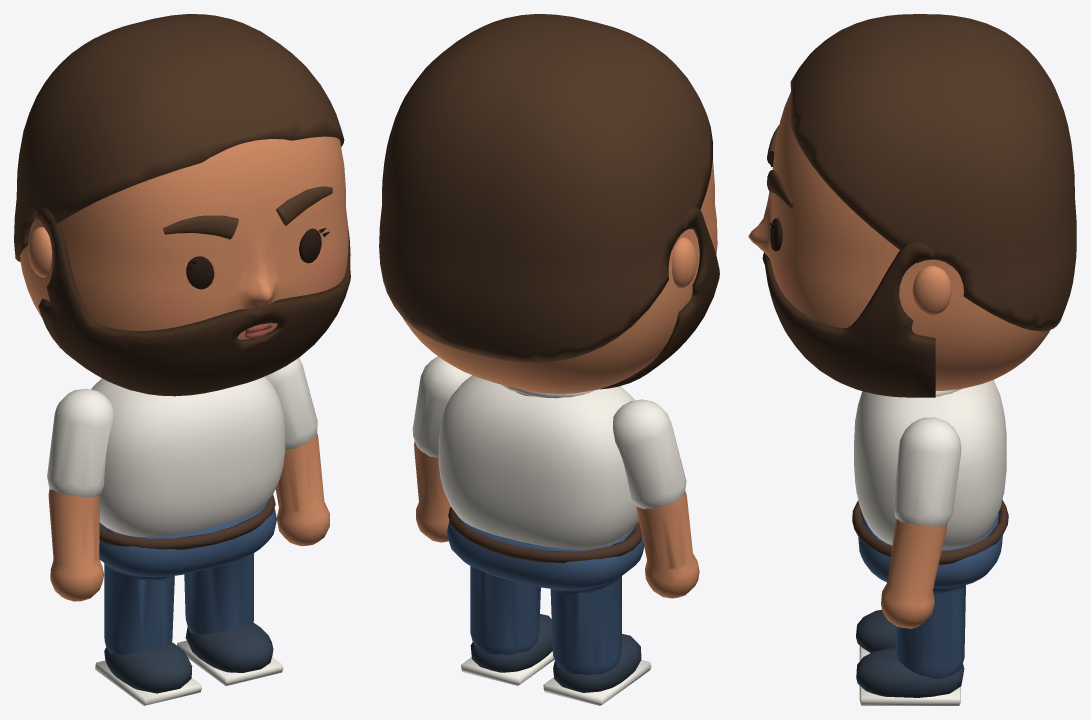
Rendered from robert.glb.
The picture shows the model from 3 angles, left to right: view 1: azimuth 30°, elevation 25°; view 2: azimuth 150°, elevation 25°; view 3: azimuth 270°, elevation 25°; orthographic projection.
Visible parts, largest first — view 1: head, body, arm_r, arm_l, eye_r, eye_l; view 2: head, body, arm_r, arm_l; view 3: head, body, arm_l.
Boxes of the visible parts, x1,y1,x2,y2 form: head: (14, 14, 350, 396); body: (91, 376, 285, 705); arm_r: (47, 388, 113, 601); arm_l: (265, 358, 329, 546); eye_r: (186, 256, 214, 289); eye_l: (299, 228, 321, 263); head: (379, 14, 719, 393); body: (438, 375, 651, 705); arm_r: (613, 399, 699, 598); arm_l: (412, 356, 471, 542); head: (748, 14, 1076, 397); body: (852, 380, 1008, 705); arm_l: (881, 417, 961, 628).
Bounding box in the file's own units: 0.9394 × 1.93 × 0.9023.
